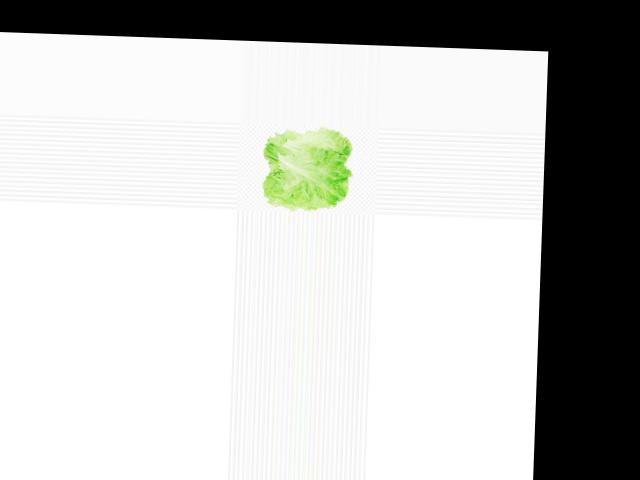lettuce: (255, 122, 360, 214)
